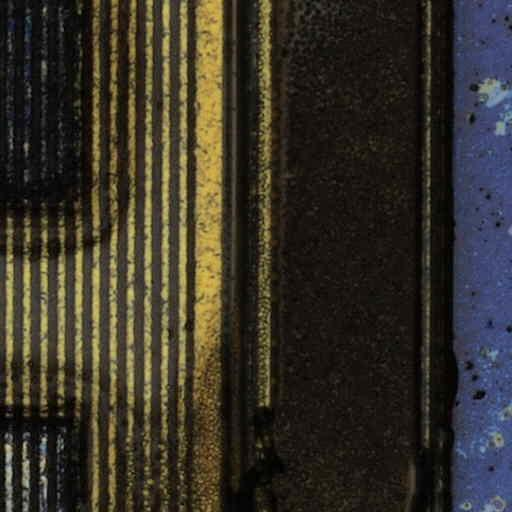SEZ BURNT: (1, 1, 463, 512)
